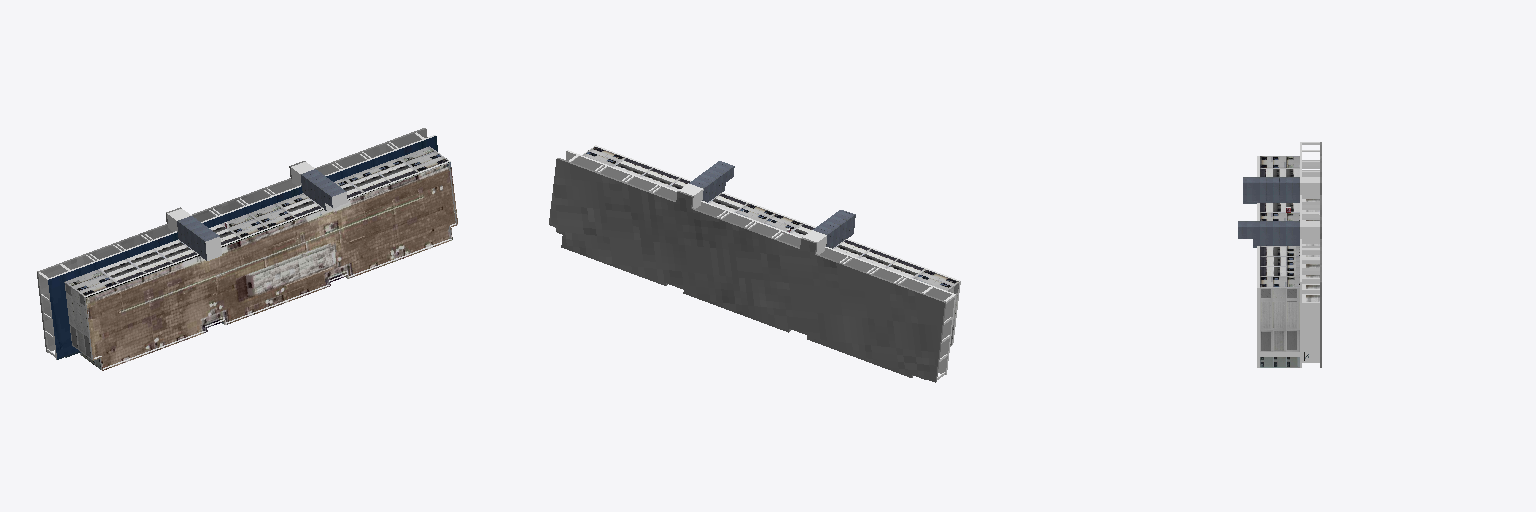
3 renders of one model, left to right at view 1: azimuth 30°, elevation 25°; view 2: azimuth 150°, elevation 25°; view 3: azimuth 270°, elevation 25°, orthographic.
Visible parts, largest first — view 1: polygon.859; view 2: polygon.859; view 3: polygon.859.
Boxes of the visible parts, box(x1,y1,x2,y2) form: polygon.859: box(37, 128, 457, 370); polygon.859: box(549, 145, 960, 382); polygon.859: box(1238, 142, 1321, 367).
Size of the model in its own units: 86.57 by 27.82 by 15.99.
1 materials, 1 textured.